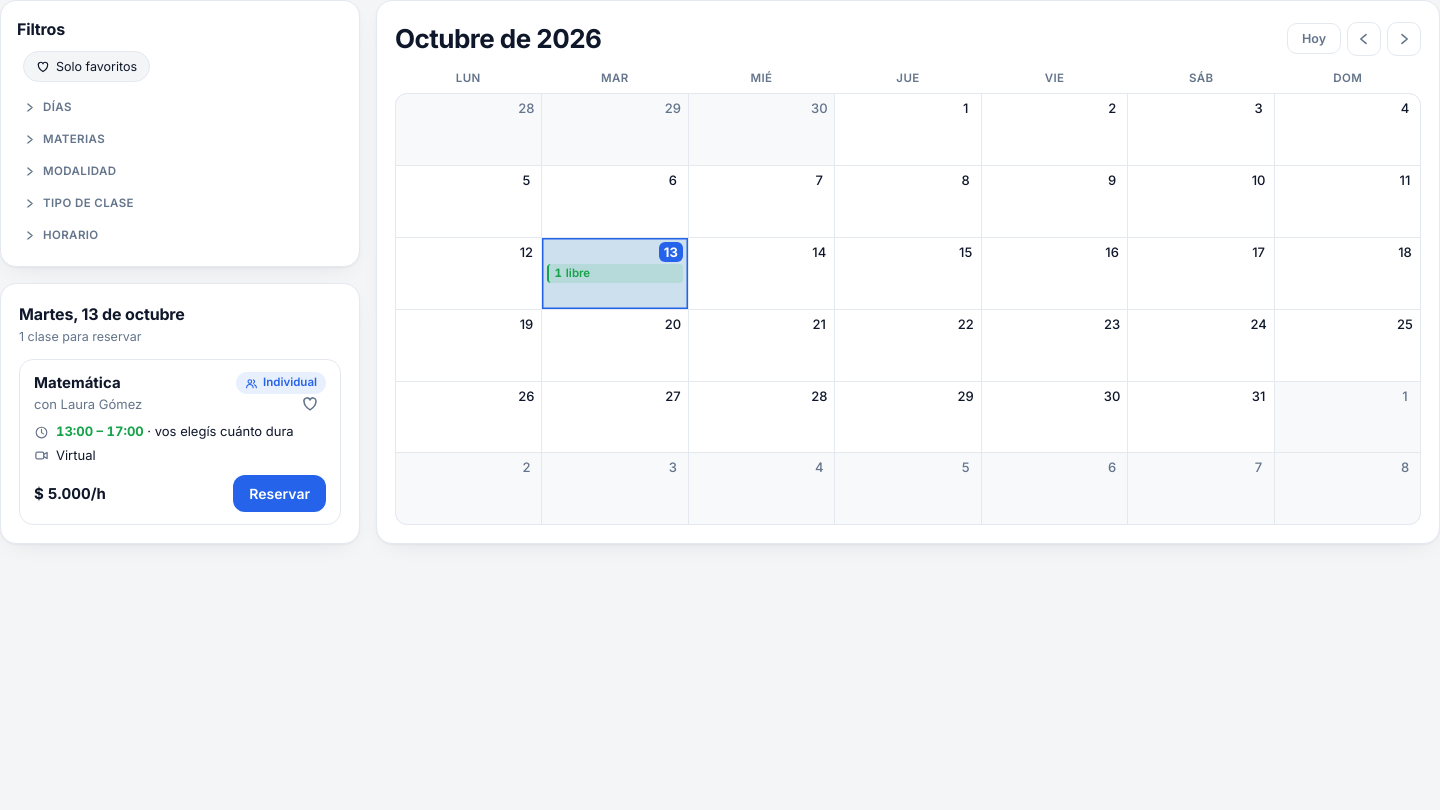
Test: BookingBoard › filtra por hora de arranque
This screenshot has width=1440, height=810.
Click the button "Horario" at (71, 235), box [17,220,343,250]
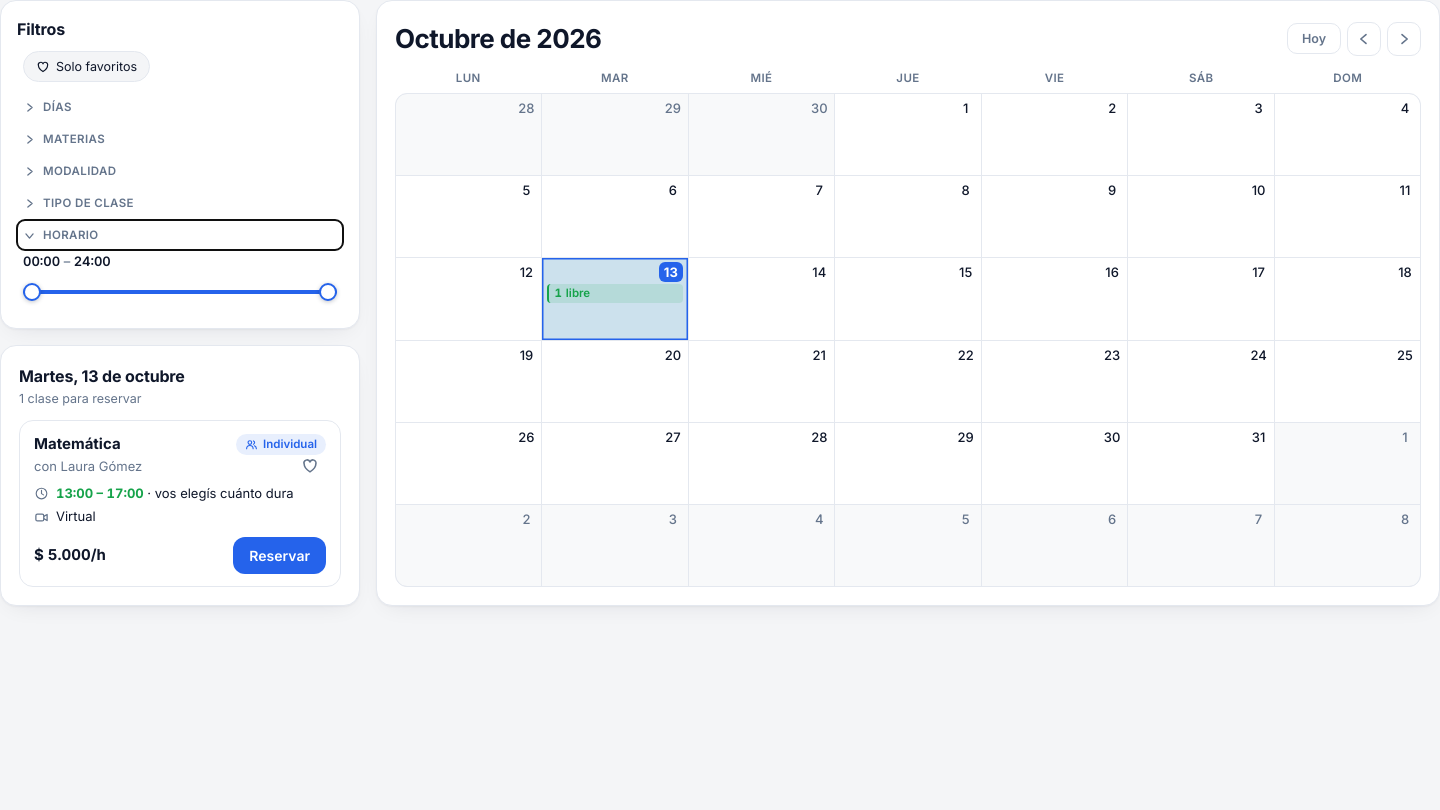
Set the slider named "Desde" to "16" at (230, 292), box [23,282,337,302]
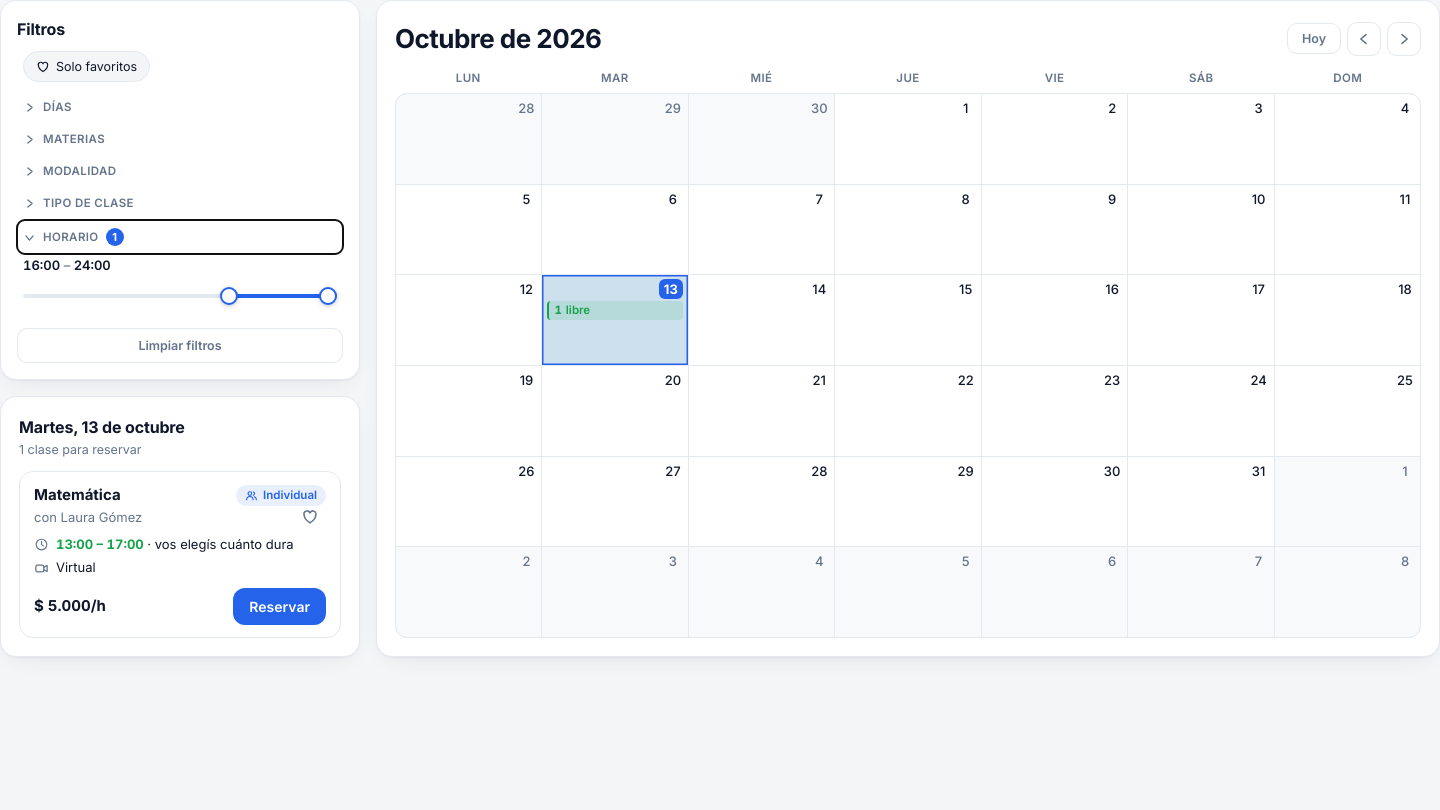
expect the text "13:00 – 17:00" is shown: met, box [56,536,144,552]
Set the slider named "Desde" to "17" at (242, 296), box [23,286,337,306]
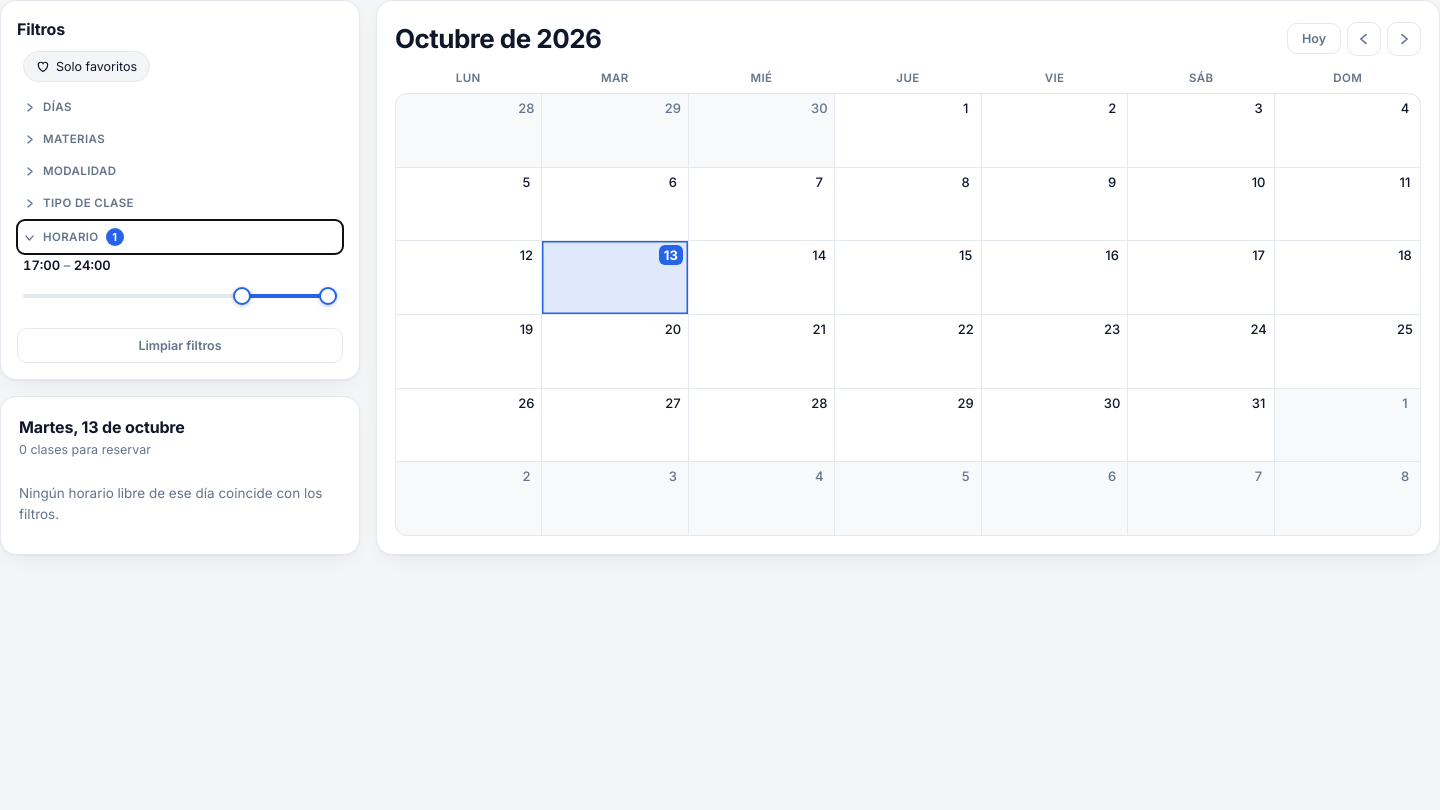
expect the text "13:00 – 17:00" is gone: met
